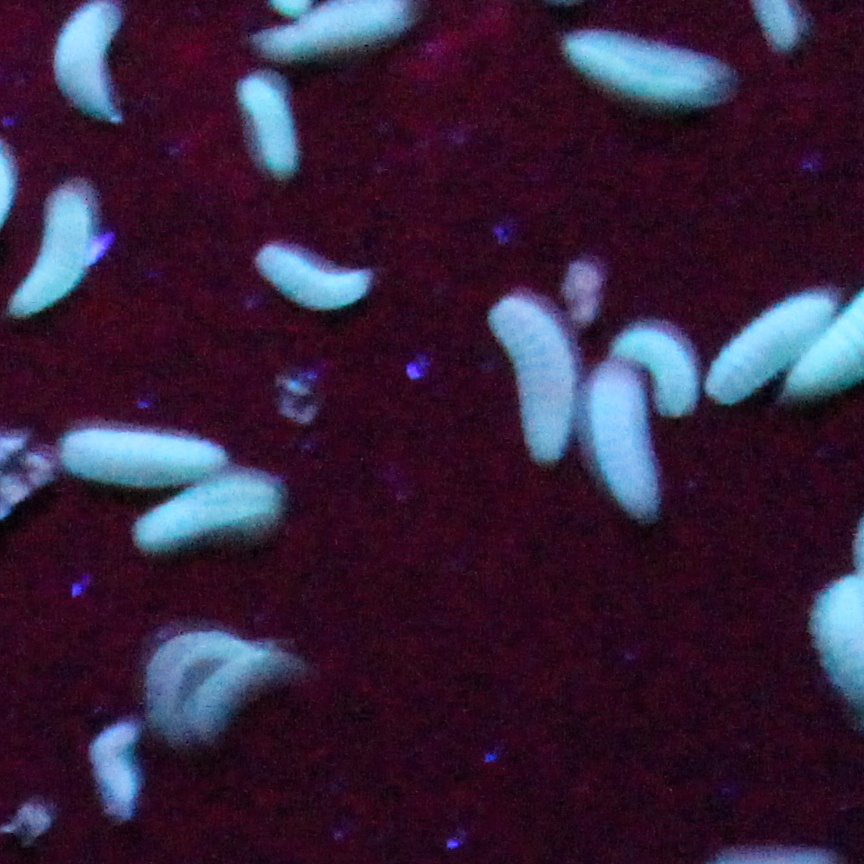larve: (706, 293, 833, 404), (491, 300, 573, 460), (8, 186, 89, 317), (568, 33, 716, 98), (135, 477, 277, 544), (590, 370, 655, 516), (62, 429, 229, 485), (147, 631, 252, 717), (256, 1, 410, 57), (55, 2, 122, 120), (256, 244, 367, 311), (614, 328, 695, 415), (237, 72, 297, 178), (195, 650, 290, 714)
